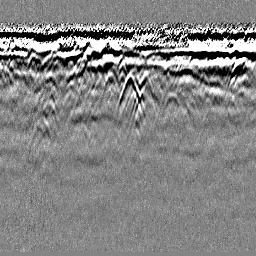cavity: (117, 72, 142, 106)
